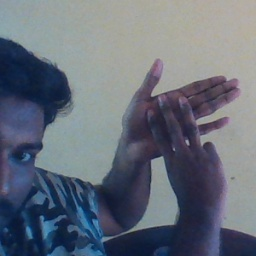M: (112, 57, 239, 207)
